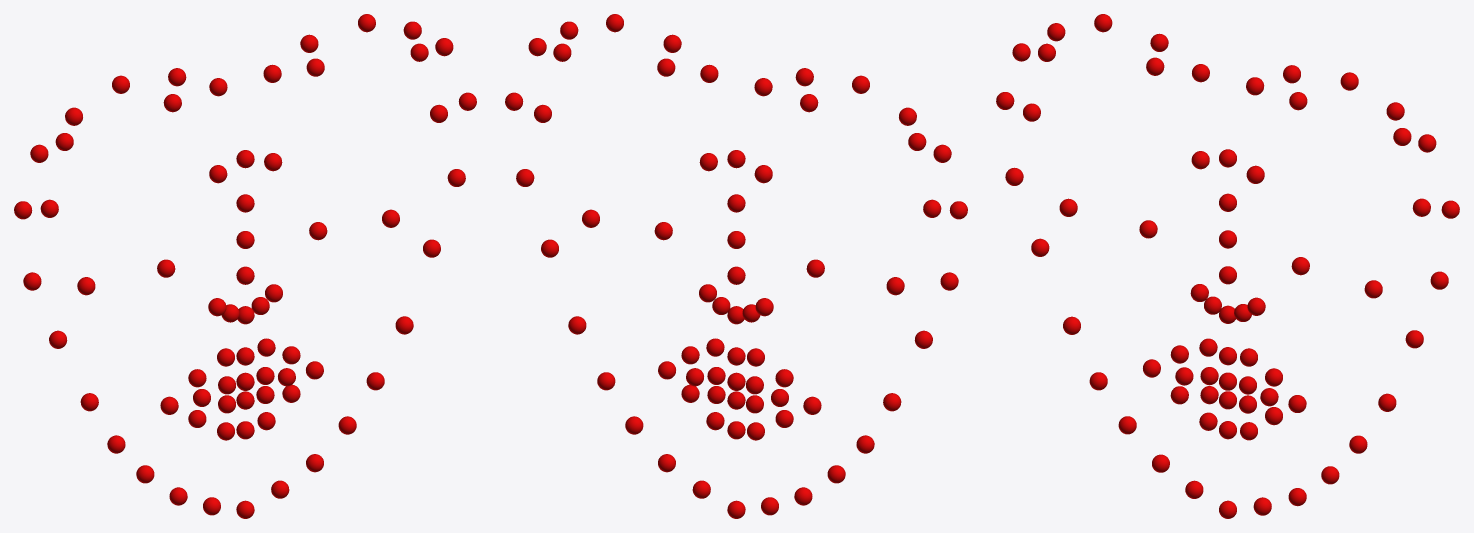
File: morph_bigEyes2.fbx
3 views of the same model, side by side, from view 1: azimuth 30°, elevation 25°; view 2: azimuth 150°, elevation 25°; view 3: azimuth 330°, elevation 25° (orthographic).
Bounding box in the file's own units: 7.05 × 6.93 × 0.242.
